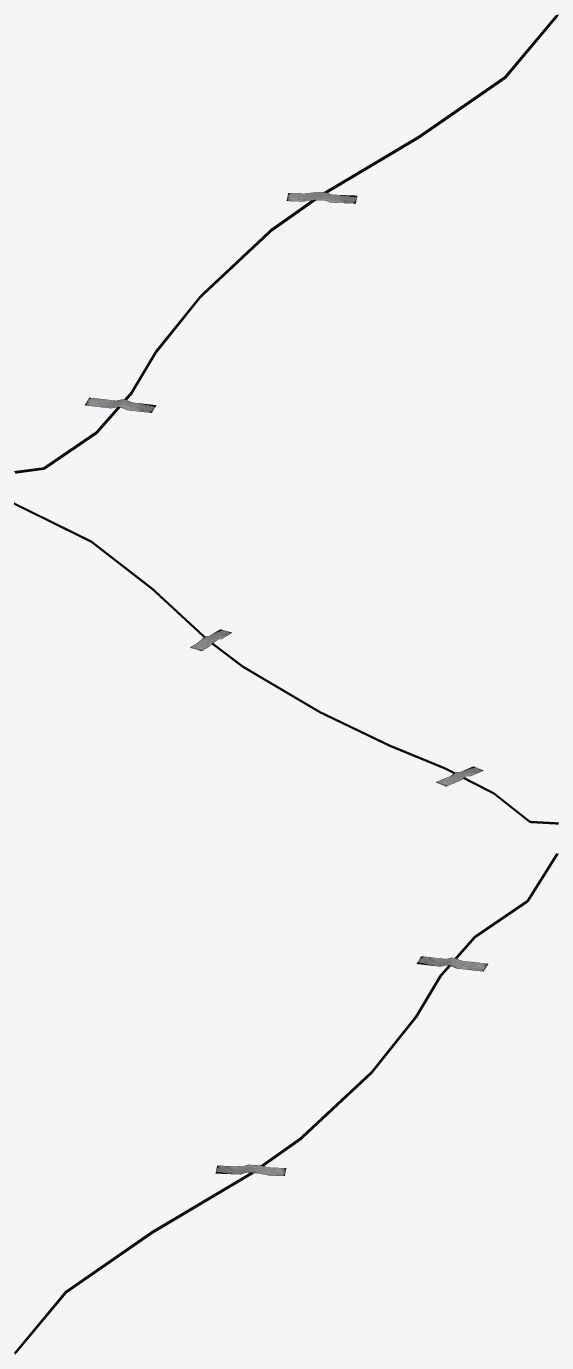
Rendered from Cable_Strip_C.fbx.
3 views of the same model, one above another, from view 1: azimuth 90°, elevation 25°; view 2: azimuth 150°, elevation 25°; view 3: azimuth 270°, elevation 25° (orthographic). The views are drawn at different scales.
Visible parts, largest first — view 1: Mic_Cable, Cable_Tape_B, Cable_Tape_A; view 2: Mic_Cable; view 3: Mic_Cable, Cable_Tape_A.
Boxes of the visible parts, <box> form: Mic_Cable: <box>14,14,558,473</box>; Cable_Tape_B: <box>286,192,357,203</box>; Cable_Tape_A: <box>85,397,156,412</box>; Mic_Cable: <box>14,502,558,824</box>; Mic_Cable: <box>14,853,558,1354</box>; Cable_Tape_A: <box>416,956,487,971</box>.
Size of the model in its own units: 4.82 by 0.1119 by 2.32.
